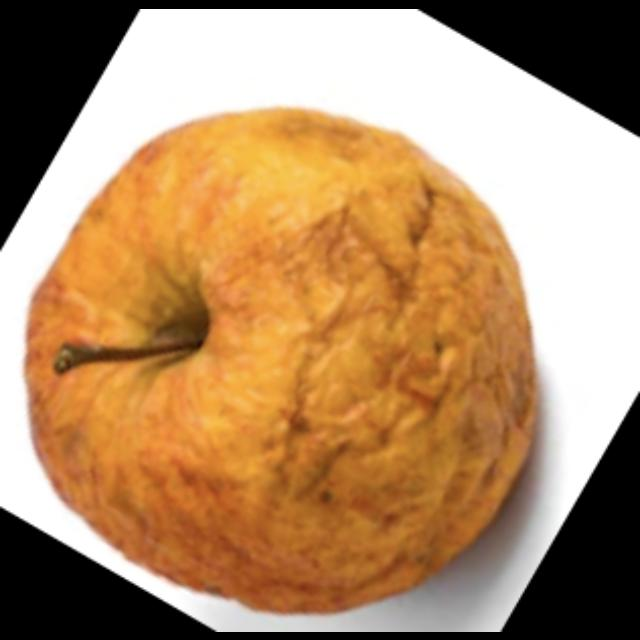Apel Tidak Segar: (33, 118, 517, 630)
